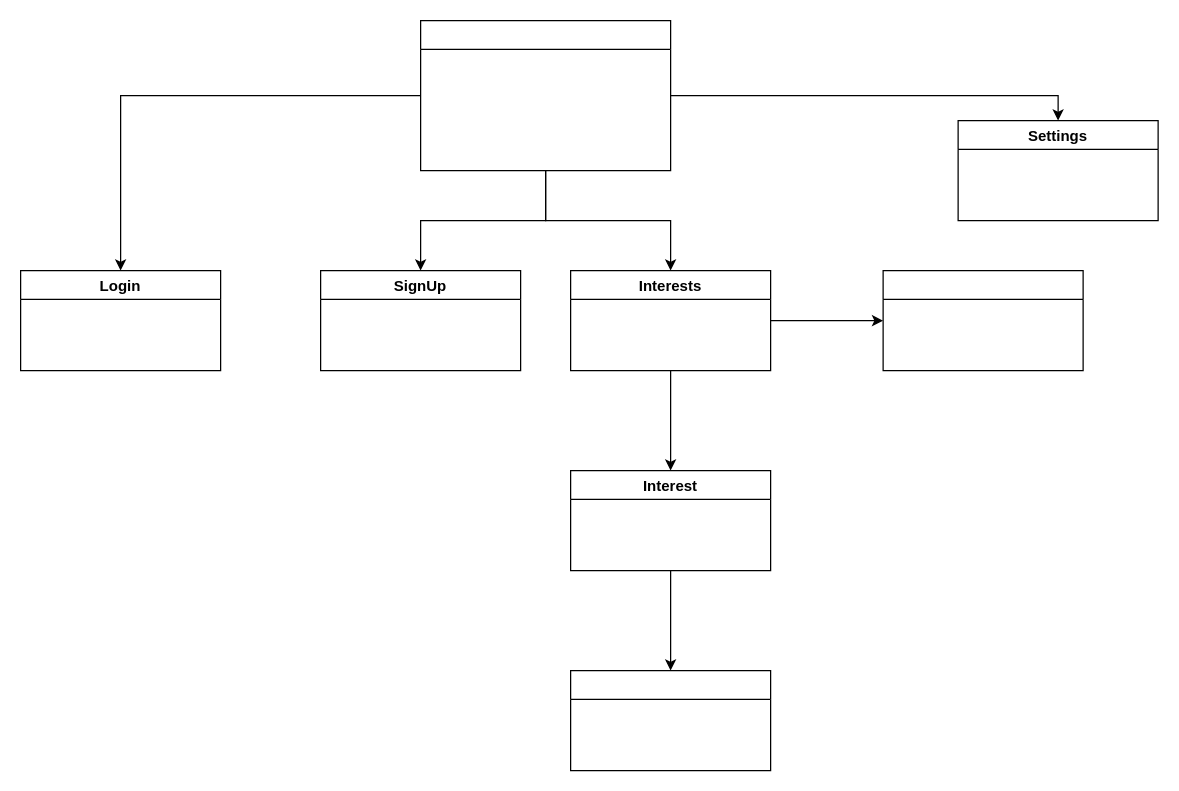
Some shapes in this 1179 by 791 pixel diagram are drawn without their labels. The centre of each missing label's shape, as x and y in pixels:
"Edit" goes at point 982,320.
"Index" goes at point 545,95.
"Thread" goes at point 670,720.
